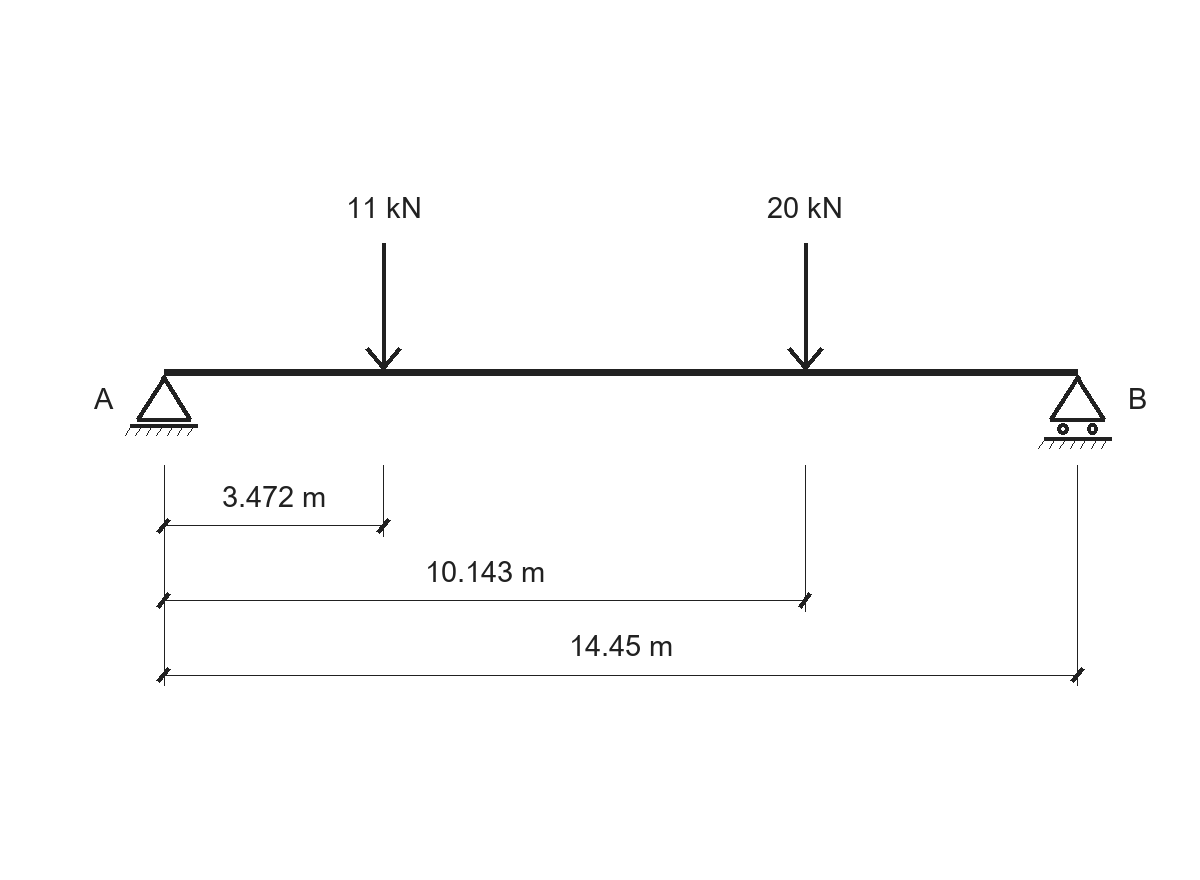pin_support: (125, 375, 198, 436)
point_load: (365, 243, 402, 370), (787, 243, 824, 370)
roller_support: (1038, 375, 1112, 449)
